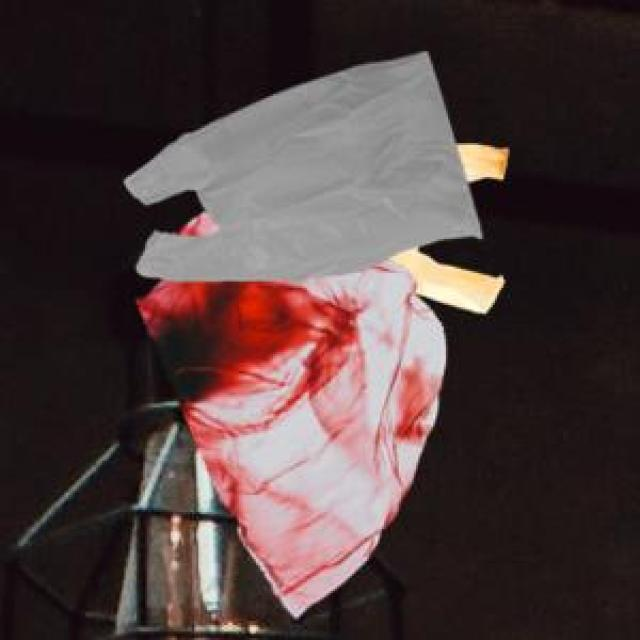waste: (125, 52, 481, 616), (390, 249, 504, 313), (456, 144, 507, 182)
